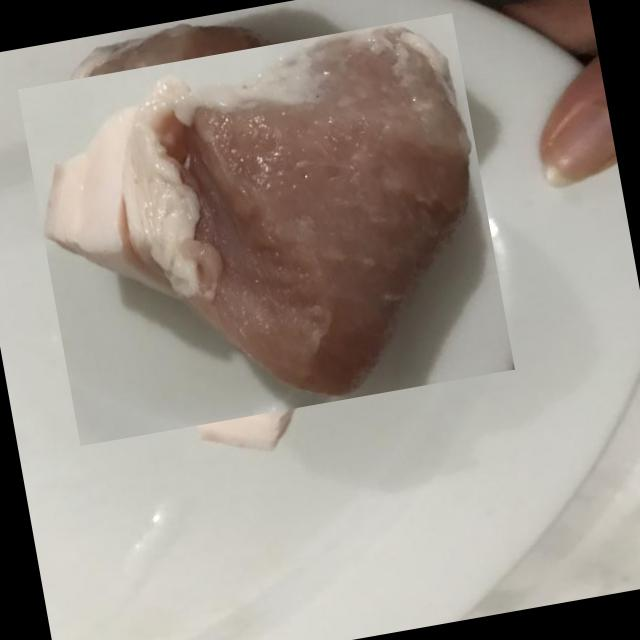chicken: (33, 0, 499, 462)
